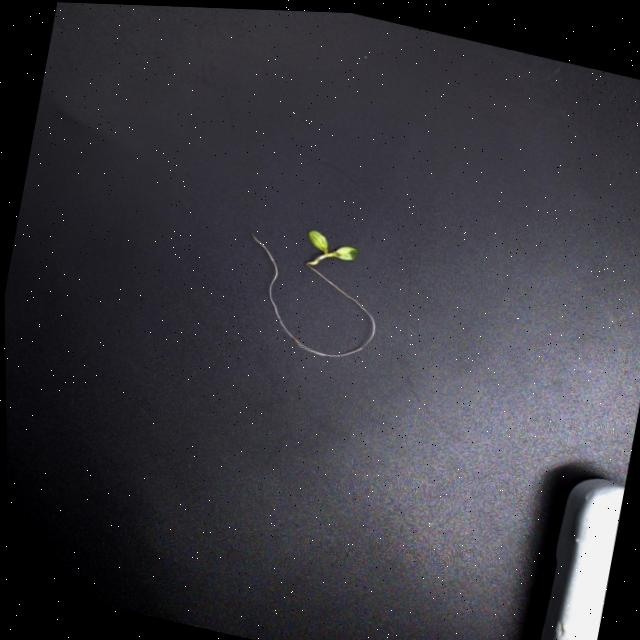leaf: (308, 230, 327, 252), (331, 246, 357, 259)
root: (251, 233, 375, 356)
stem: (305, 254, 328, 265)
